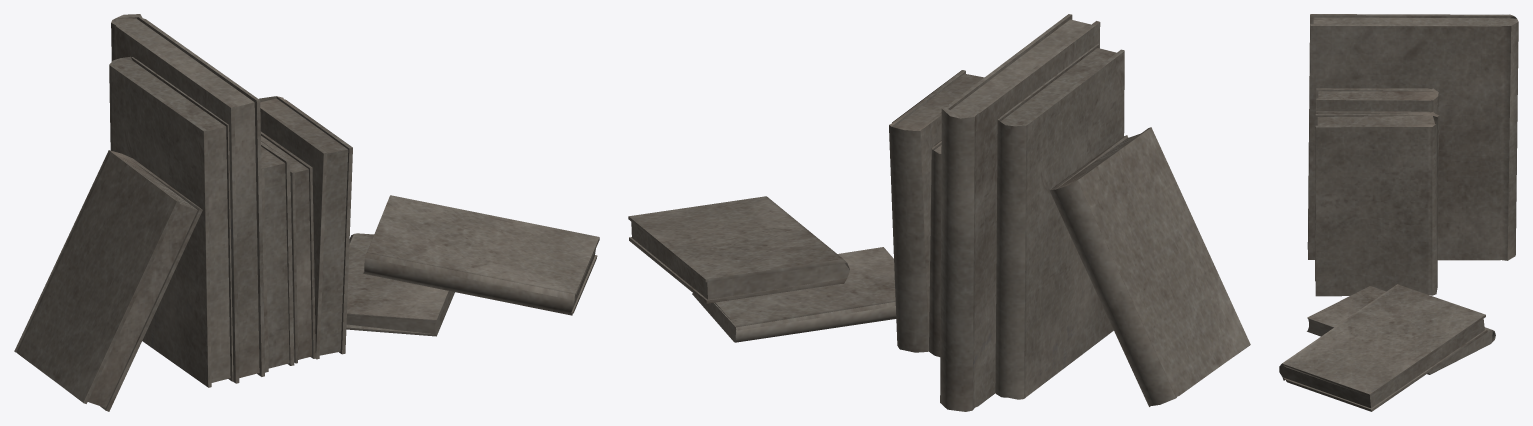
Rendered from SM_Book_Stack.fbx.
3 renders of one model, left to right at view 1: azimuth 30°, elevation 25°; view 2: azimuth 150°, elevation 25°; view 3: azimuth 270°, elevation 25°, orthographic. The views are drawn at different scales.
Visible parts, largest first — view 1: SM_Book_Stack_LOD0; view 2: SM_Book_Stack_LOD0; view 3: SM_Book_Stack_LOD0.
Part boxes in pixels (box(x1,y1,x2,y2)): SM_Book_Stack_LOD0: box(14, 14, 599, 411); SM_Book_Stack_LOD0: box(628, 14, 1250, 411); SM_Book_Stack_LOD0: box(1279, 14, 1518, 411).
Bounding box in the file's own units: 63.96 × 28.68 × 31.07.
